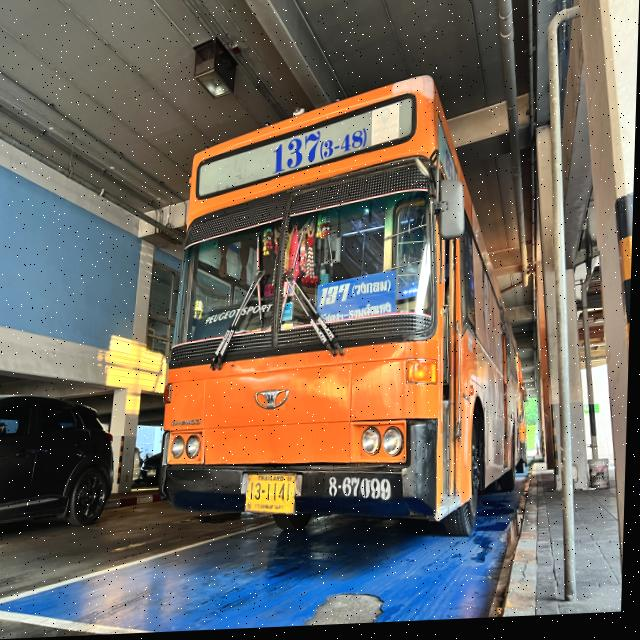BMTA-bus: (162, 76, 535, 551)
Bus-Line-Number: (271, 114, 375, 182)
Destination-Sign-Normal: (318, 272, 400, 329)
